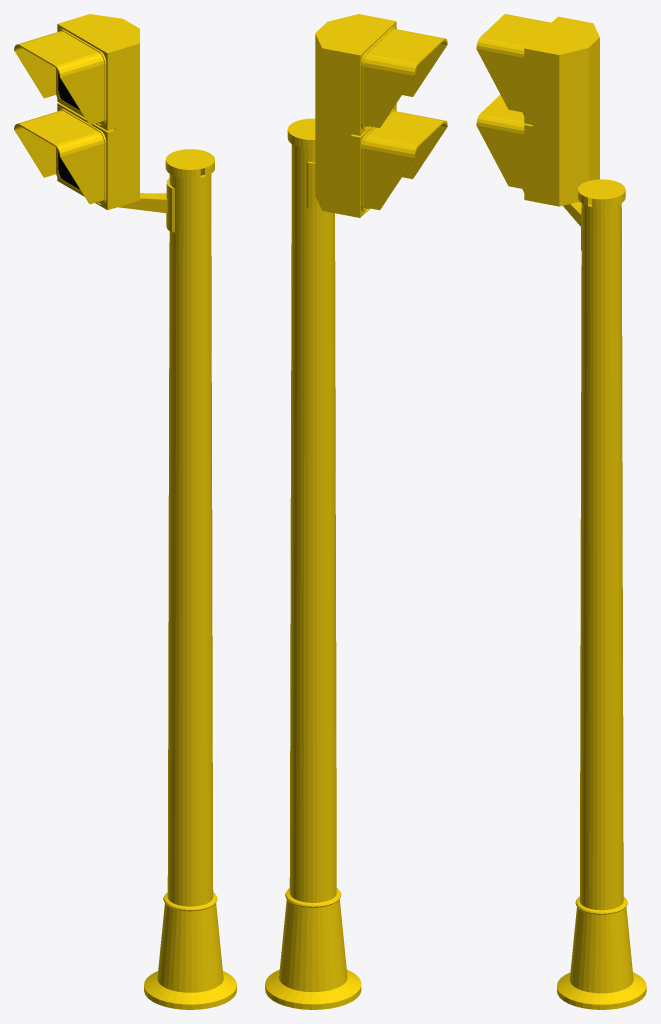
File: w_highway_traffic_signals_pedestrian.gltf
The picture shows the model from 3 angles, left to right: view 1: azimuth 30°, elevation 25°; view 2: azimuth 150°, elevation 25°; view 3: azimuth 330°, elevation 25°; orthographic projection. The views are drawn at different scales.
Visible parts, largest first — view 1: semafor; view 2: semafor; view 3: semafor.
Boxes of the visible parts, x1,y1,x2,y2 form: semafor: (14,14,236,1009); semafor: (265,14,447,1009); semafor: (476,14,646,1009).
Bounding box in the file's own units: 0.4863 × 2.51 × 0.3289.
Materials: 4 (2 with a texture image).
